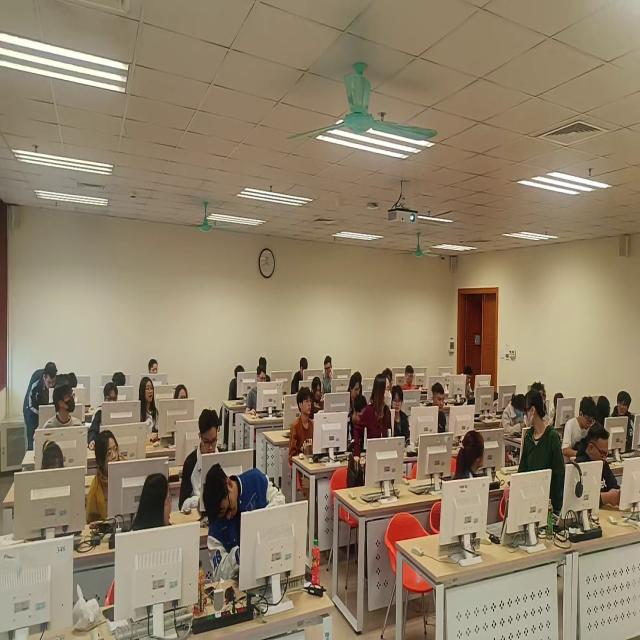raise_head: (85, 427, 123, 527), (291, 384, 316, 460), (138, 374, 161, 444), (393, 381, 413, 443), (174, 381, 191, 405), (148, 354, 159, 378)
stand: (518, 386, 566, 531), (351, 370, 395, 486), (24, 357, 58, 454)
using_computer: (182, 408, 221, 512), (88, 381, 122, 455), (563, 395, 596, 463), (347, 391, 367, 455), (39, 433, 67, 478), (500, 393, 526, 440), (430, 379, 450, 436), (247, 366, 270, 415), (292, 354, 311, 392), (229, 362, 244, 404), (462, 365, 477, 404), (321, 354, 334, 396), (597, 393, 613, 425), (347, 371, 361, 402), (405, 365, 420, 391), (115, 367, 128, 392), (69, 370, 82, 389), (261, 353, 268, 369)
using_phone: (574, 421, 623, 514)
